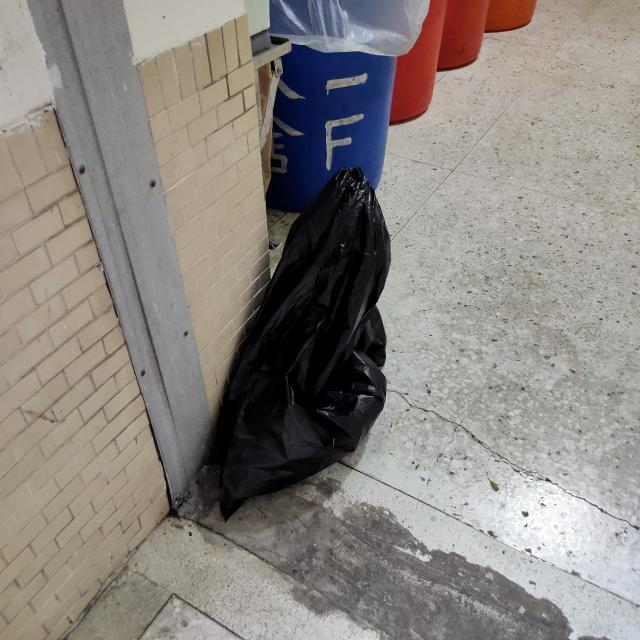Vinyl: (186, 154, 403, 508)
